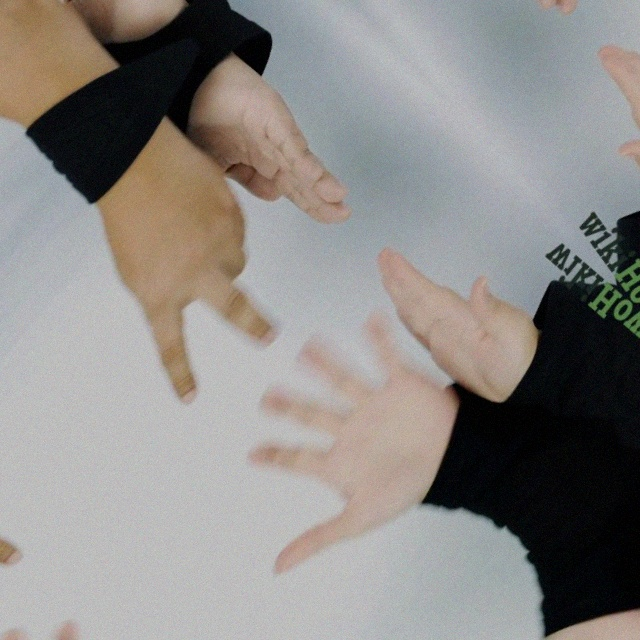Paper: (0, 390, 61, 640)
Scissors: (0, 0, 121, 187)
